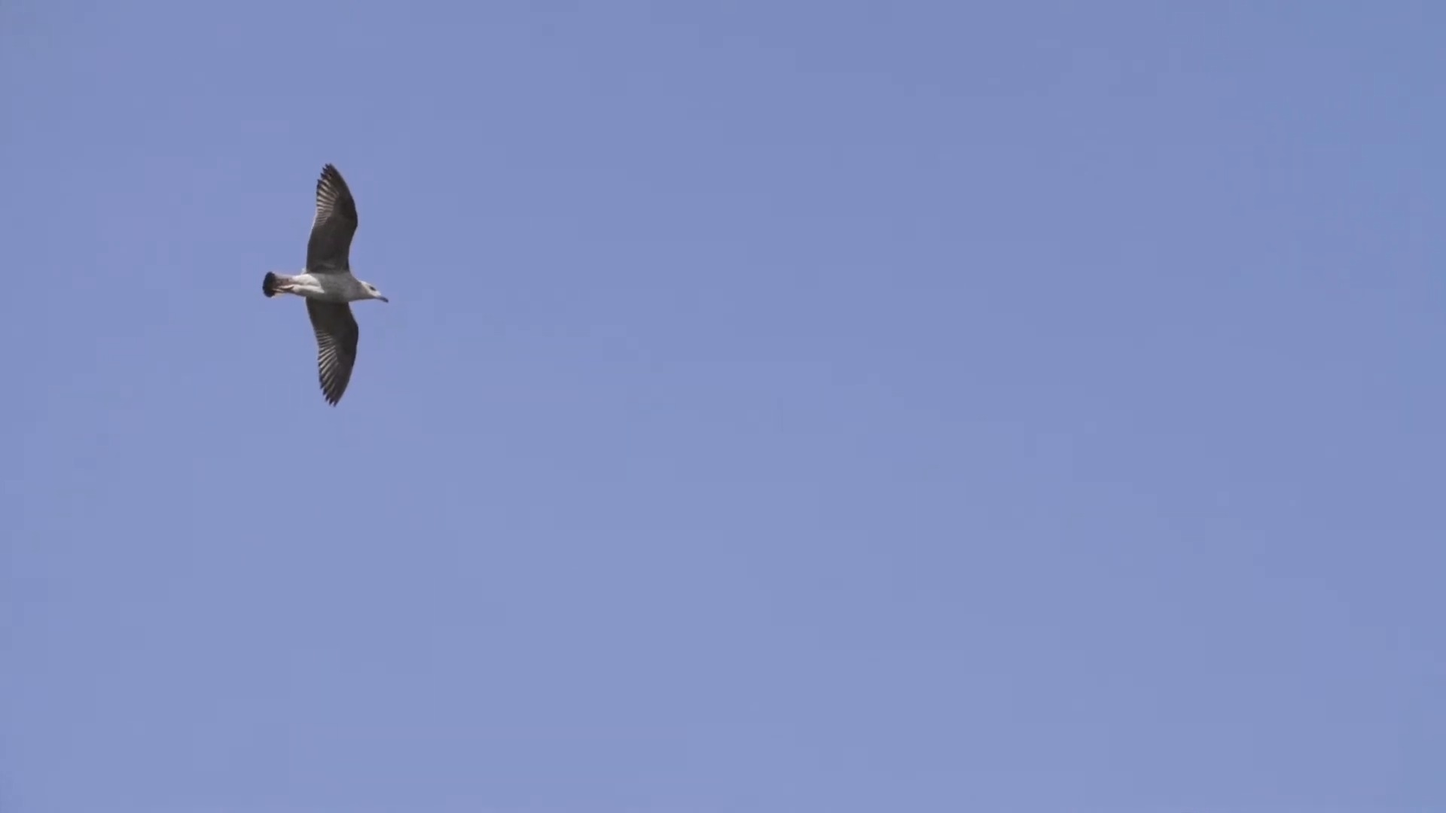bird: (252, 157, 406, 413)
